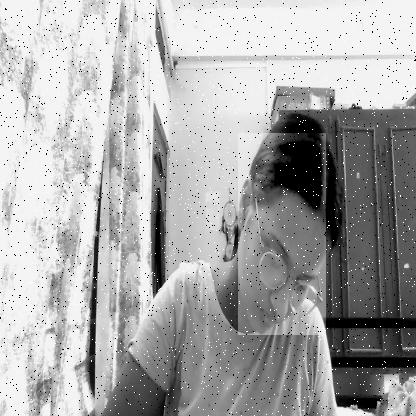Distracted: (238, 133, 326, 335)
